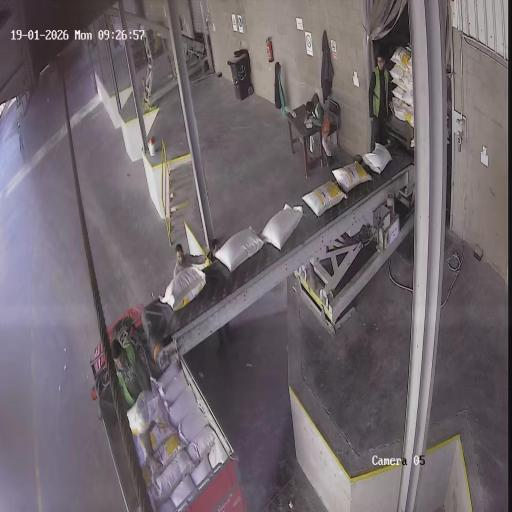c-belt-sack-count: (215, 228, 264, 272), (161, 267, 206, 311), (261, 204, 302, 250), (302, 181, 346, 216), (333, 161, 372, 193), (363, 143, 392, 174)
